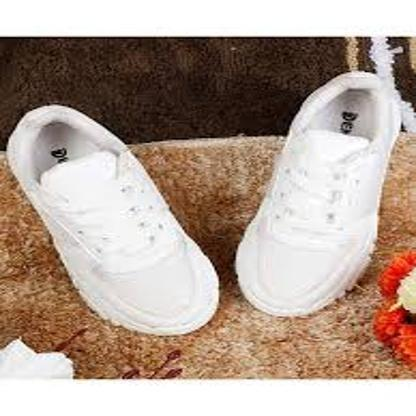not trash: (6, 100, 221, 344), (237, 71, 402, 319)
